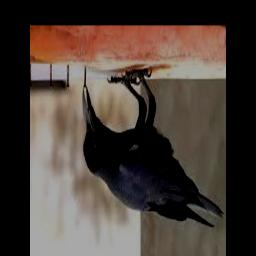Crow: (83, 68, 225, 230)
